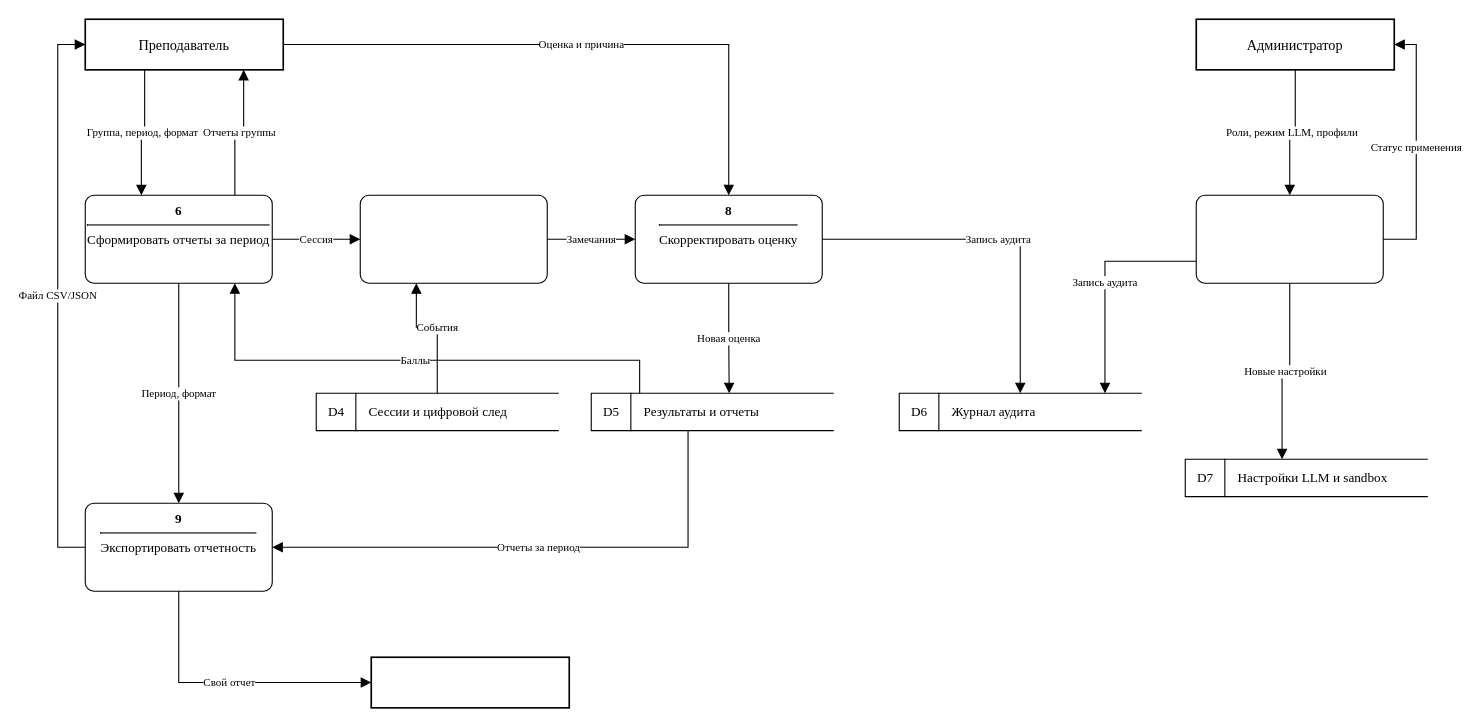
Image size: 1481x728. Some labels were removed from this diagram. Here are the shapes that lost their labels. From the top down, the centre of each, then its label:
At point (453, 238): "7 Анализировать цифровой след".
At point (1289, 238): "10 Администрировать настройки".
At point (470, 682): "Обучающийся".
